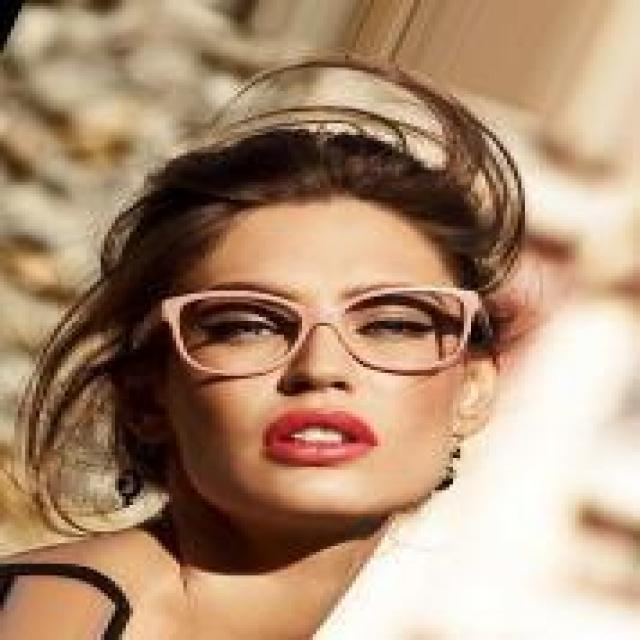nomask: (111, 150, 504, 555)
